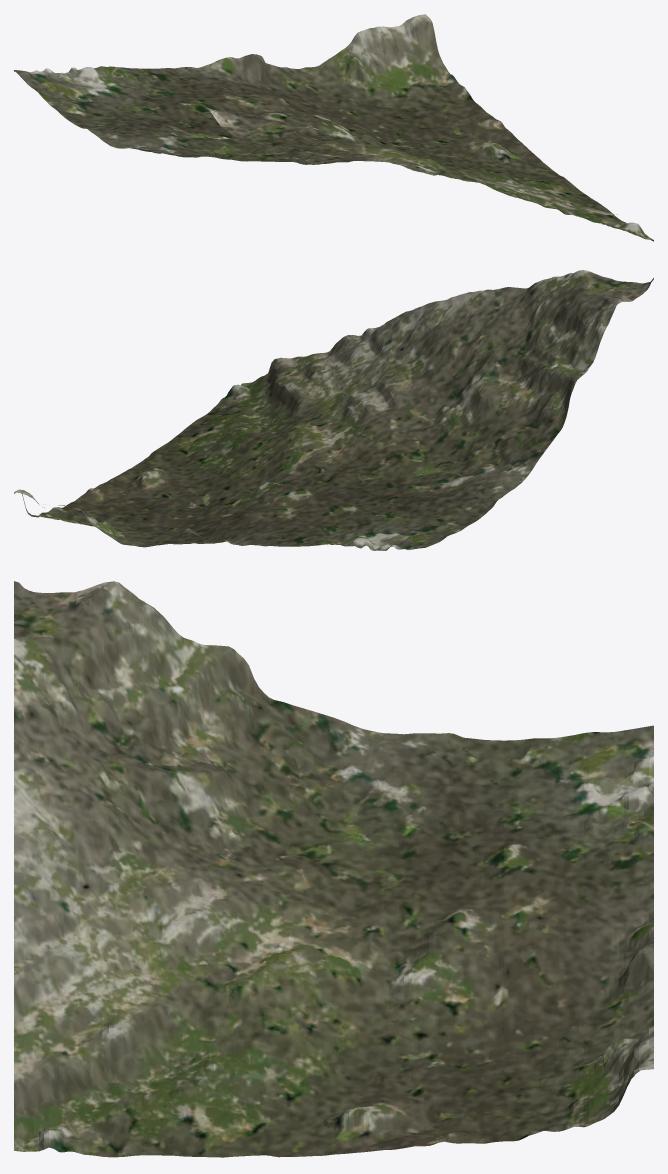
The picture shows the model from 3 angles, top to bottom: view 1: azimuth 30°, elevation 25°; view 2: azimuth 150°, elevation 25°; view 3: azimuth 270°, elevation 25°; orthographic projection. The views are drawn at different scales.
Bounding box in the file's own units: 250 × 124 × 241.
1 material, 1 textured.
